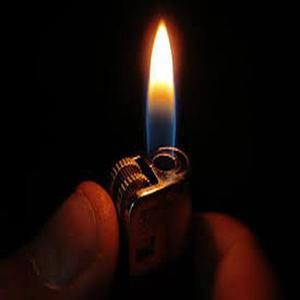fire: (147, 14, 185, 142)
